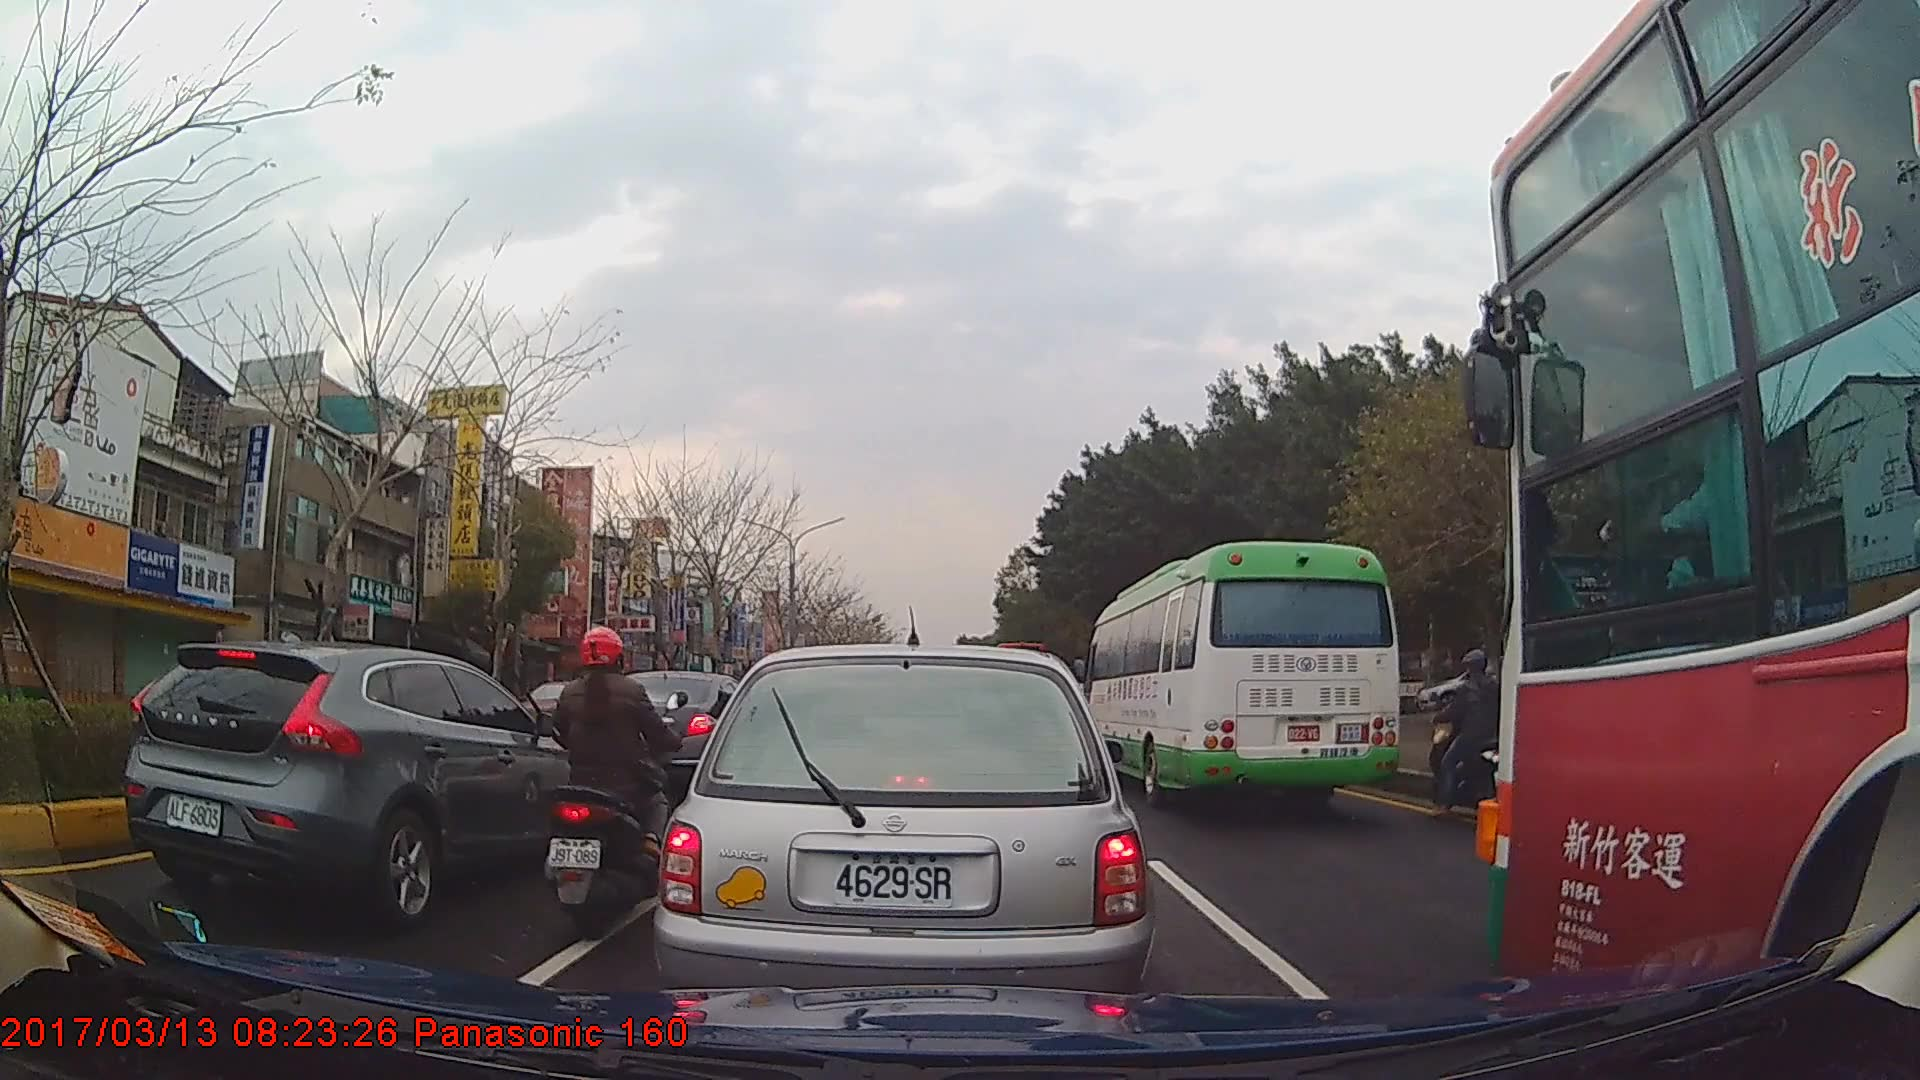rider: (549, 623, 689, 929), (1429, 649, 1525, 819)
vehicle: (1476, 0, 1920, 1038), (656, 642, 1157, 1037), (120, 643, 598, 920), (1083, 538, 1399, 809), (591, 669, 758, 790)
